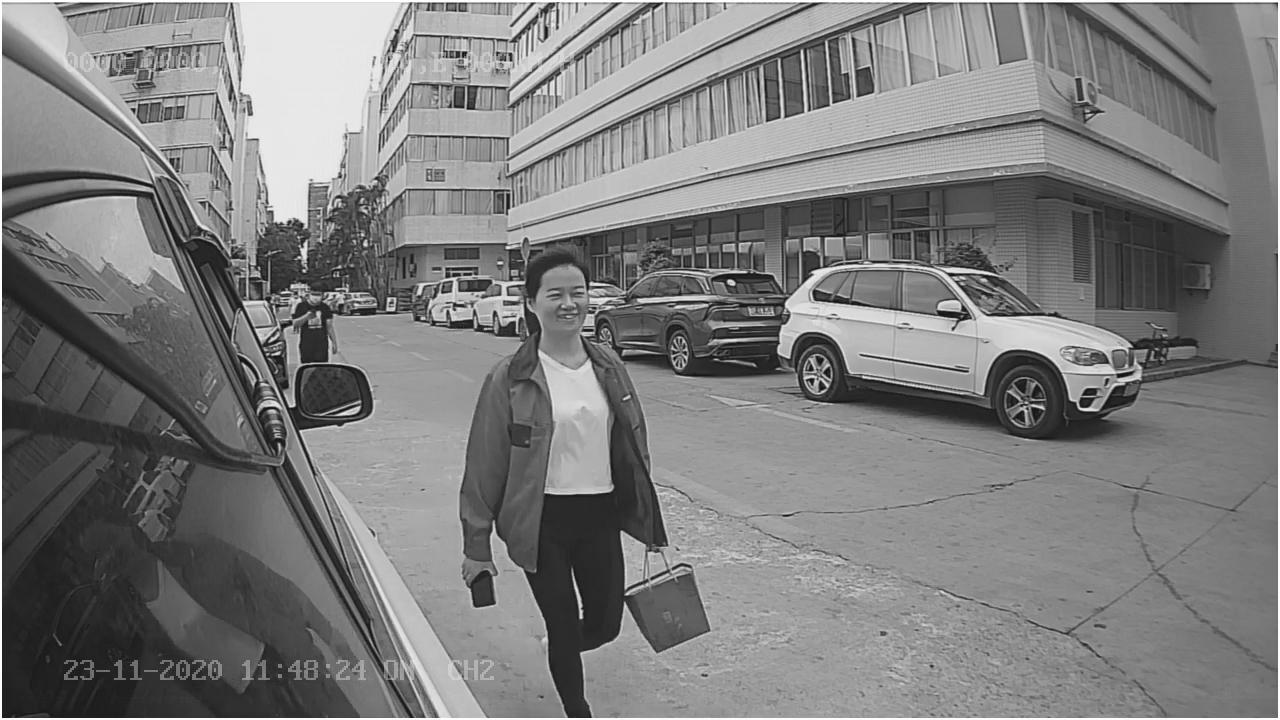person: (452, 234, 678, 585)
